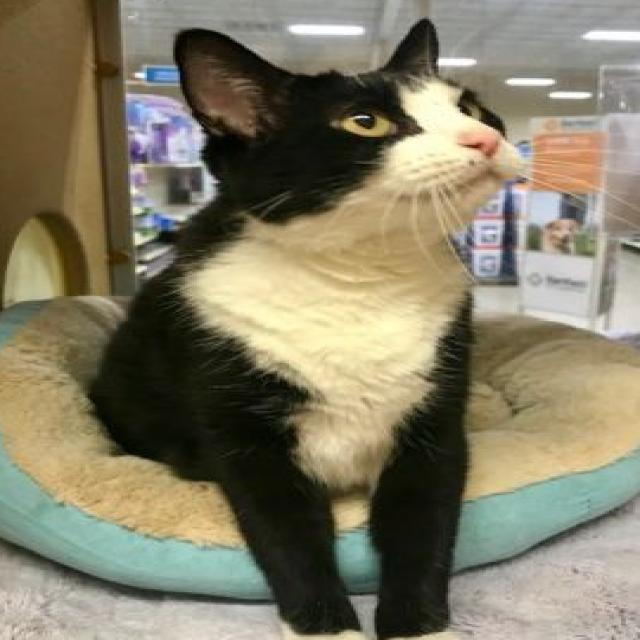Tuxedo: (83, 14, 536, 640)
